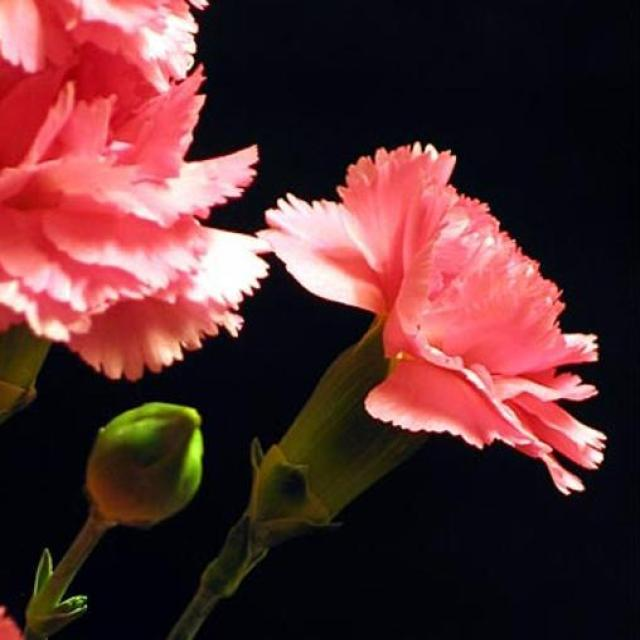carnation: (292, 159, 606, 563)
